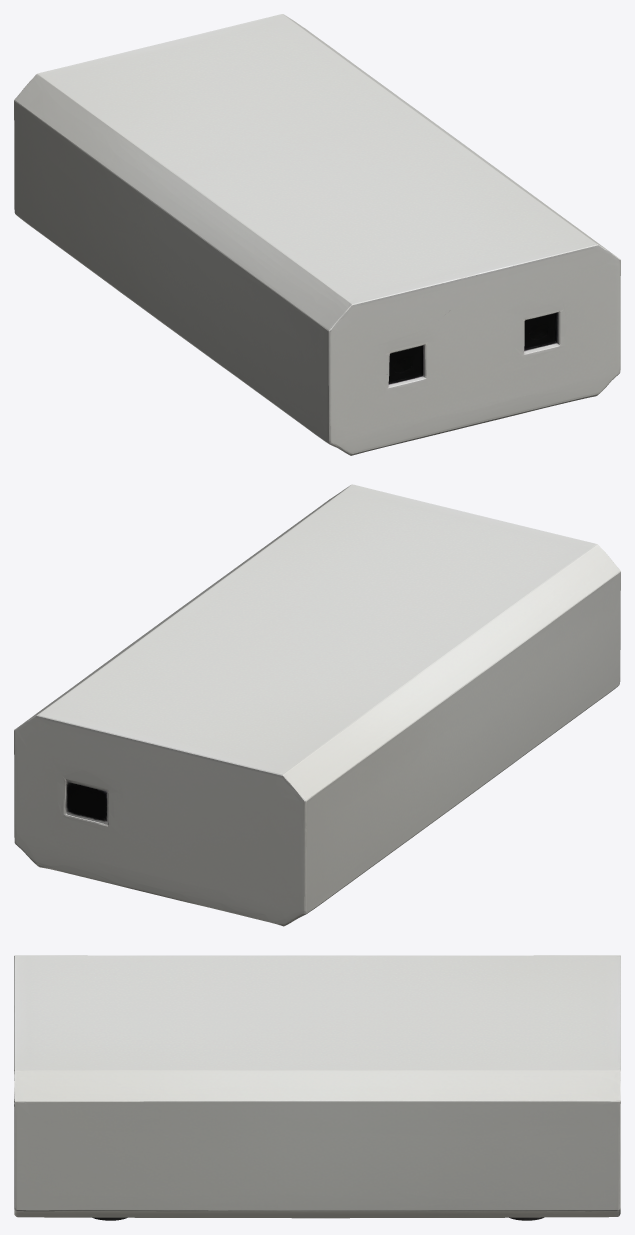
The model's file is portable_battery.fbx.
The picture shows the model from 3 angles, top to bottom: view 1: azimuth 30°, elevation 25°; view 2: azimuth 150°, elevation 25°; view 3: azimuth 270°, elevation 25°; orthographic projection. The views are drawn at different scales.
Visible parts, largest first — view 1: world; view 2: world; view 3: world.
Boxes of the visible parts, box(x1,y1,x2,y2) form: world: box(14, 14, 620, 455); world: box(14, 484, 620, 926); world: box(14, 955, 620, 1220).
Bounding box in the file's own units: 53.55 × 28.8 × 100.
Materials: 1 (1 with a texture image).
